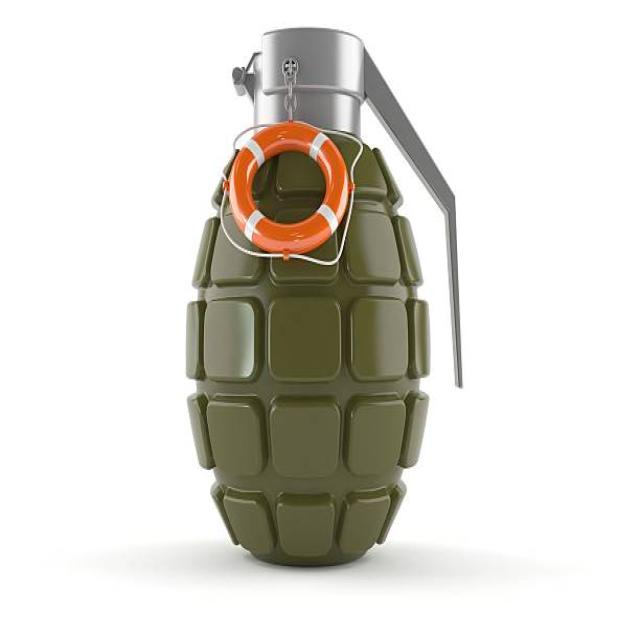grenade: (171, 10, 473, 587)
